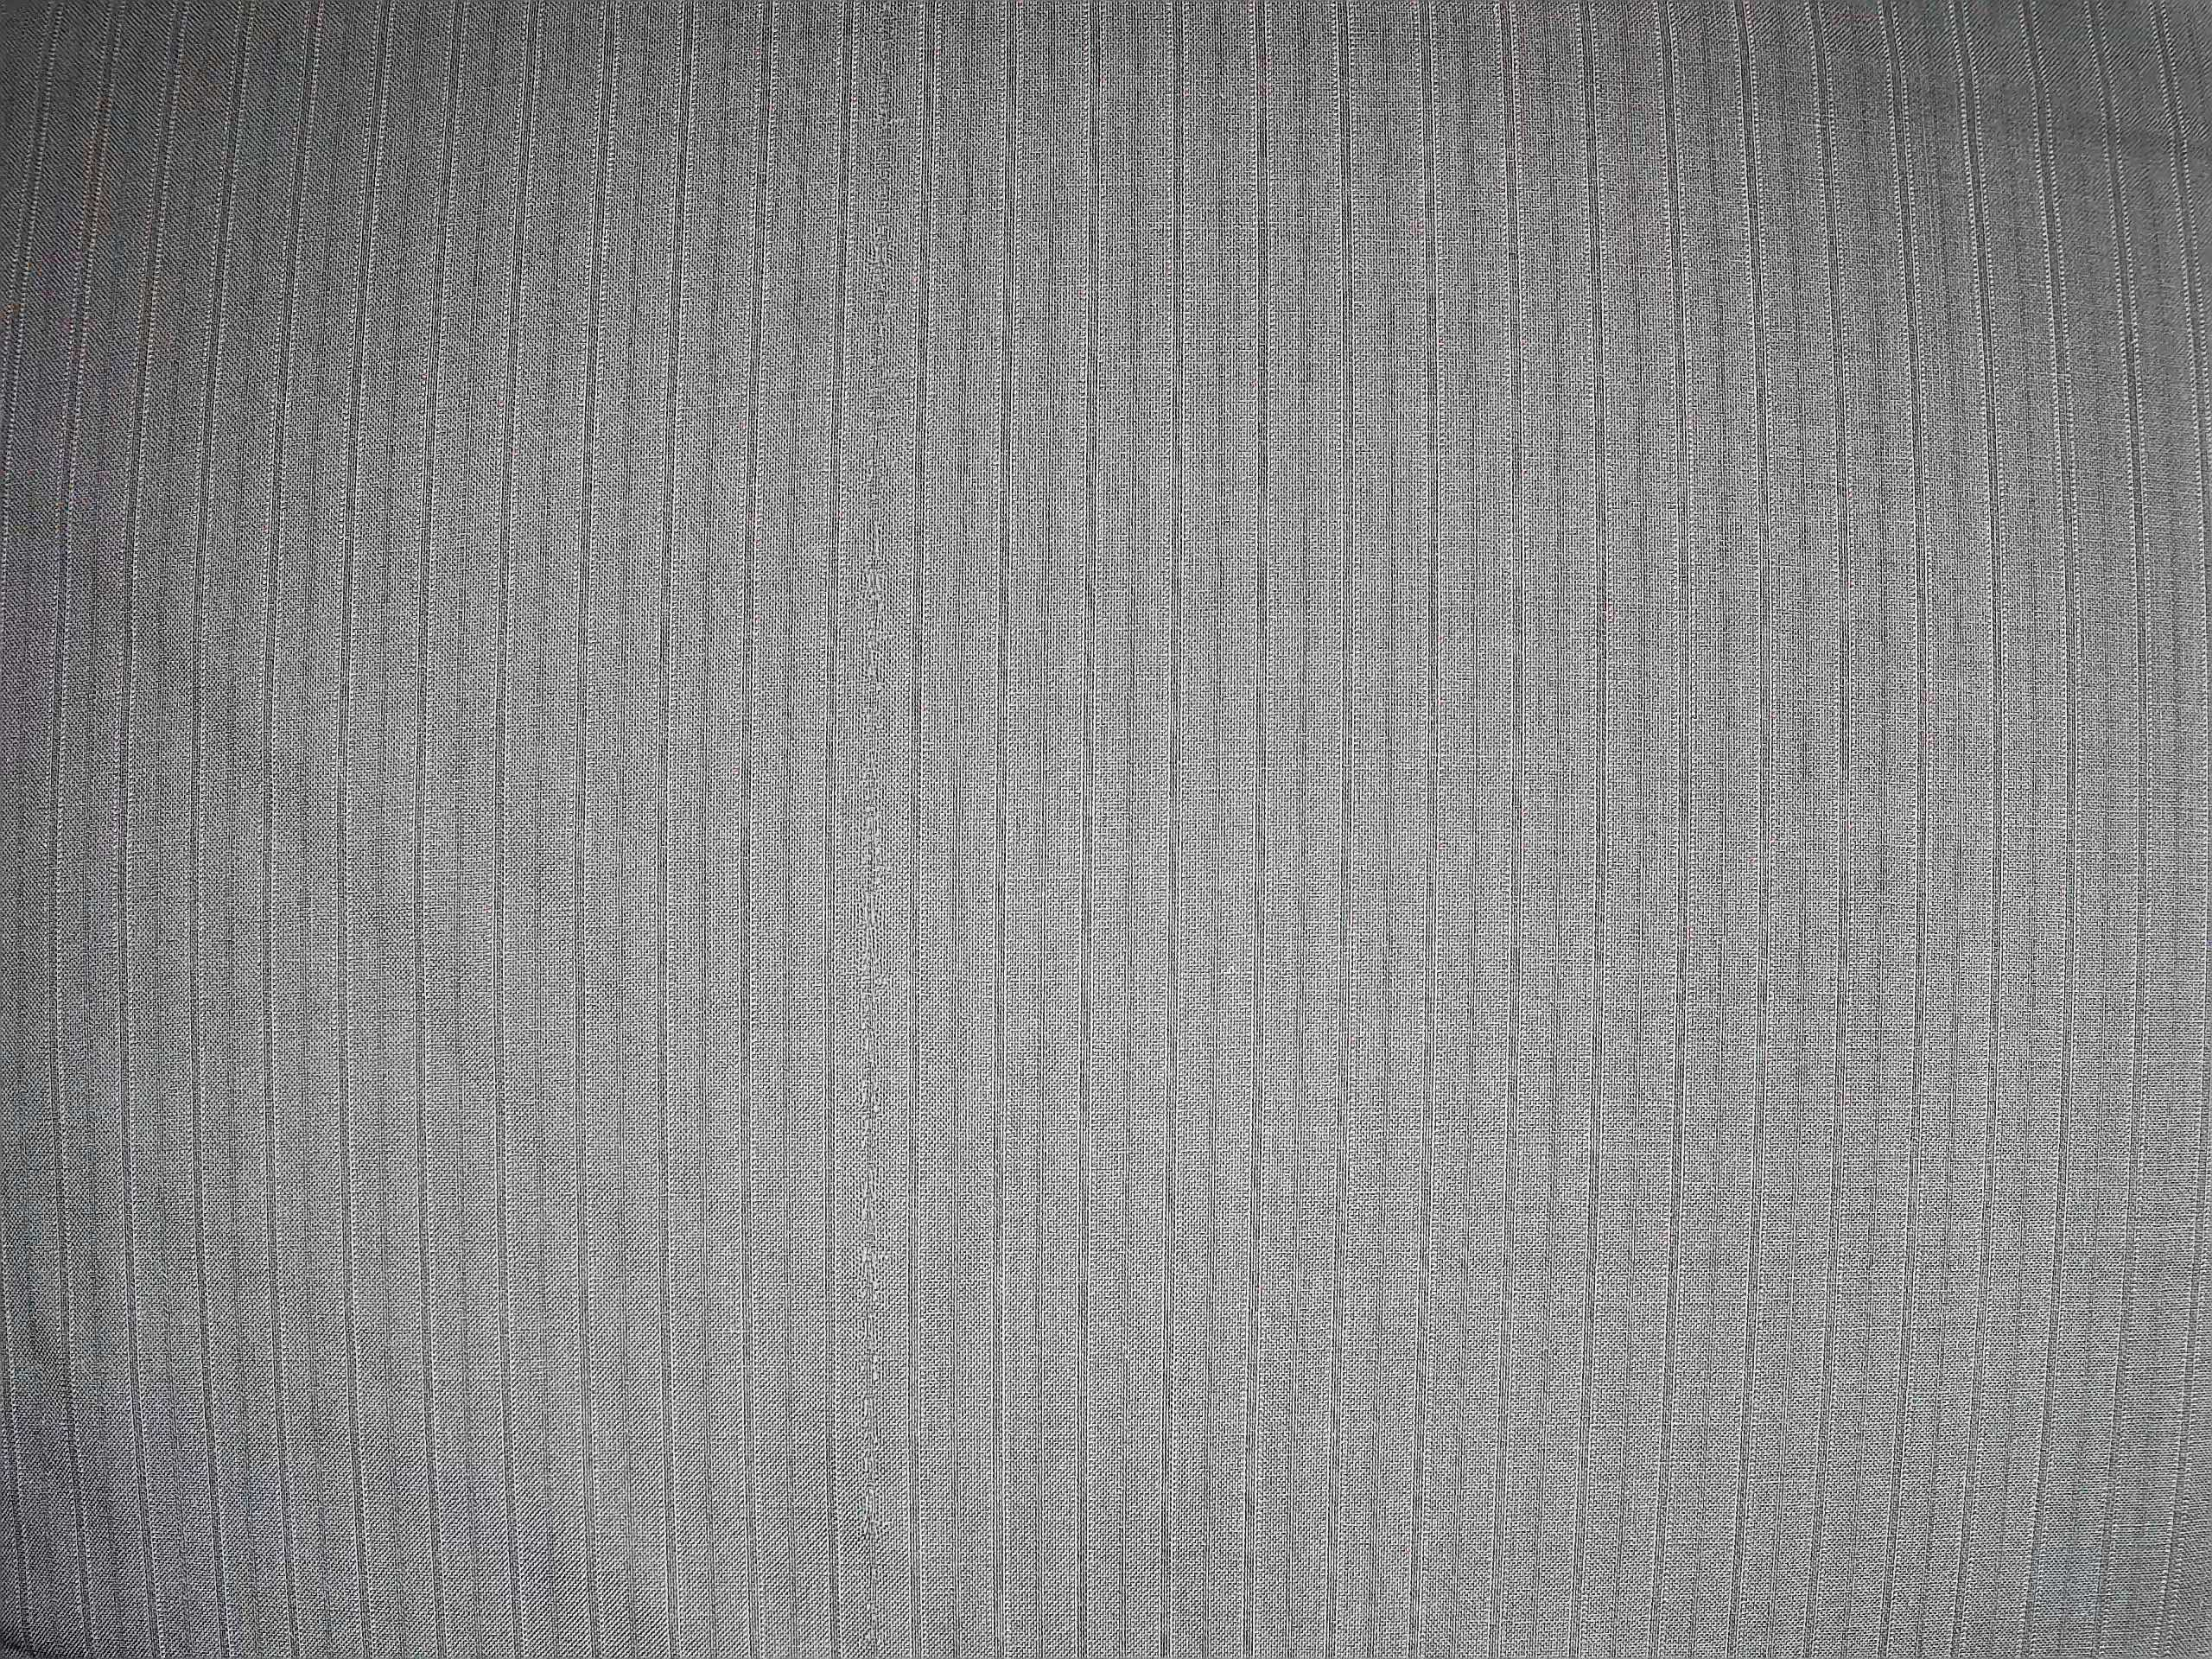jumps: (857, 0, 909, 1640)
